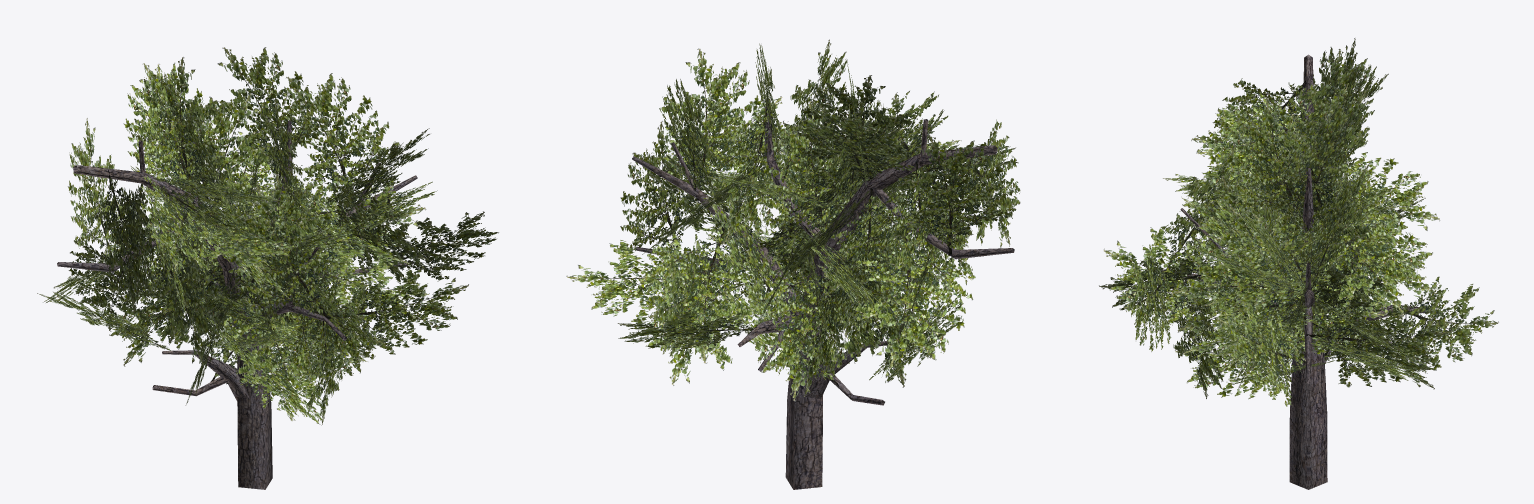
File: tree.obj
3 views of the same model, side by side, from view 1: azimuth 30°, elevation 25°; view 2: azimuth 150°, elevation 25°; view 3: azimuth 270°, elevation 25° (orthographic). The views are drawn at different scales.
Visible parts, largest first — view 1: Plane_Mesh; view 2: Plane_Mesh; view 3: Plane_Mesh.
Part boxes in pixels (<box>): Plane_Mesh: <box>37,47,498,489</box>; Plane_Mesh: <box>566,39,1020,489</box>; Plane_Mesh: <box>1099,38,1498,489</box>.
Size of the model in its own units: 4.31 by 4.38 by 4.08.
